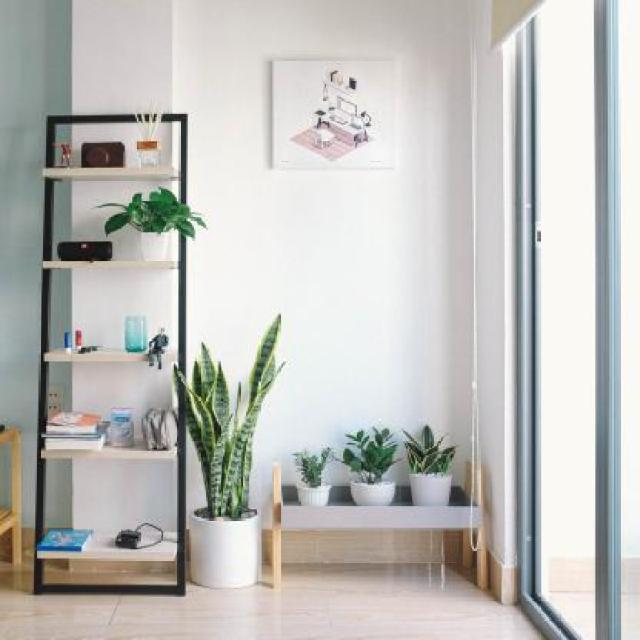floor: (0, 560, 551, 640), (46, 564, 179, 587)
